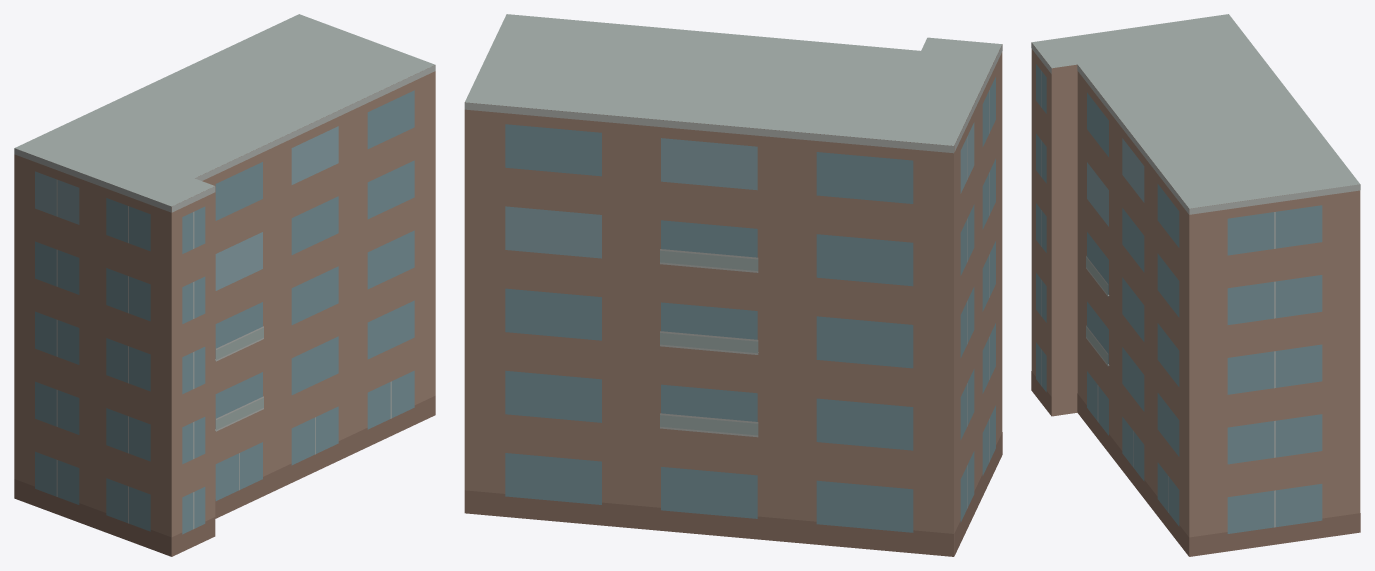
Rendered from survey-upis-32978825.glb.
3 views of the same model, side by side, from view 1: azimuth 30°, elevation 25°; view 2: azimuth 150°, elevation 25°; view 3: azimuth 270°, elevation 25° (orthographic). The views are drawn at different scales.
Visible parts, largest first — view 1: survey-upis-32978825.tmp; view 2: survey-upis-32978825.tmp; view 3: survey-upis-32978825.tmp.
Boxes of the visible parts, box(x1,y1,x2,y2) form: survey-upis-32978825.tmp: box(14, 14, 435, 556); survey-upis-32978825.tmp: box(464, 14, 1002, 556); survey-upis-32978825.tmp: box(1031, 14, 1360, 556).
Size of the model in its own units: 16.56 by 13.8 by 11.83.
